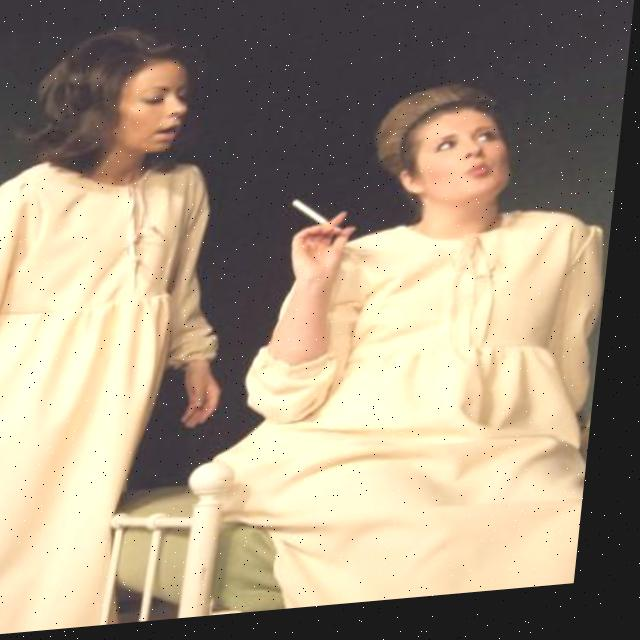cigarette: (295, 203, 339, 238)
